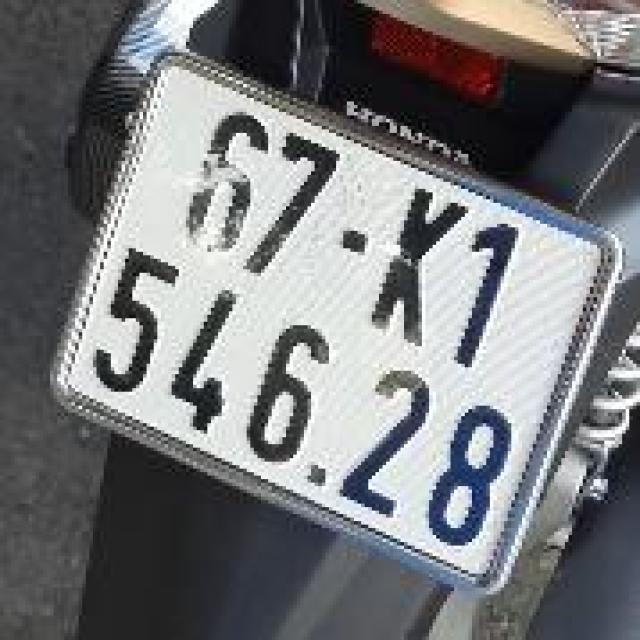1: (420, 205, 542, 386)
2: (329, 354, 450, 529)
4: (148, 270, 269, 450)
5: (78, 238, 197, 406)
6: (167, 100, 288, 275), (229, 307, 350, 479)
7: (226, 115, 356, 294)
8: (412, 385, 525, 563)
K: (359, 167, 477, 363)
